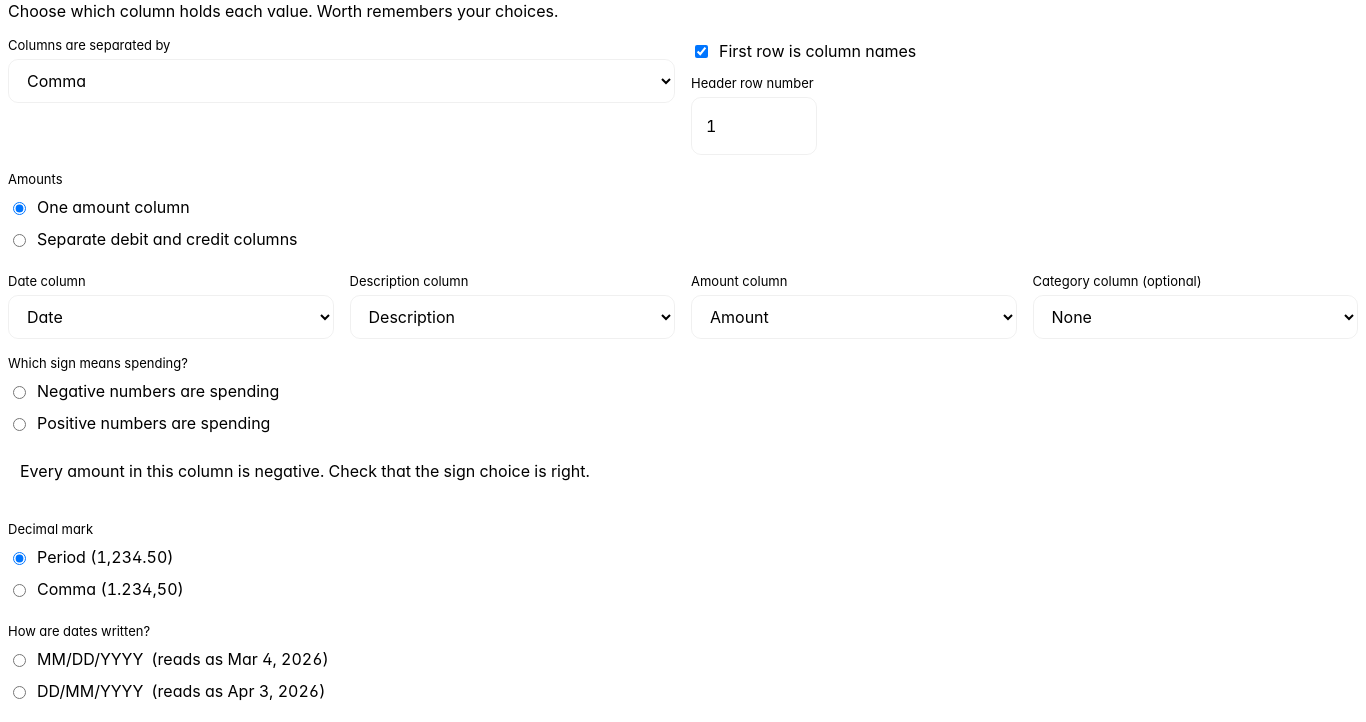
Test: ColumnsStep › shows how an ambiguous date is read under each format
Click the radio button labelled "MM/DD/YYYY (reads as Mar 4, 2026)" at (20, 660), box left=13, top=654, right=26, bottom=667
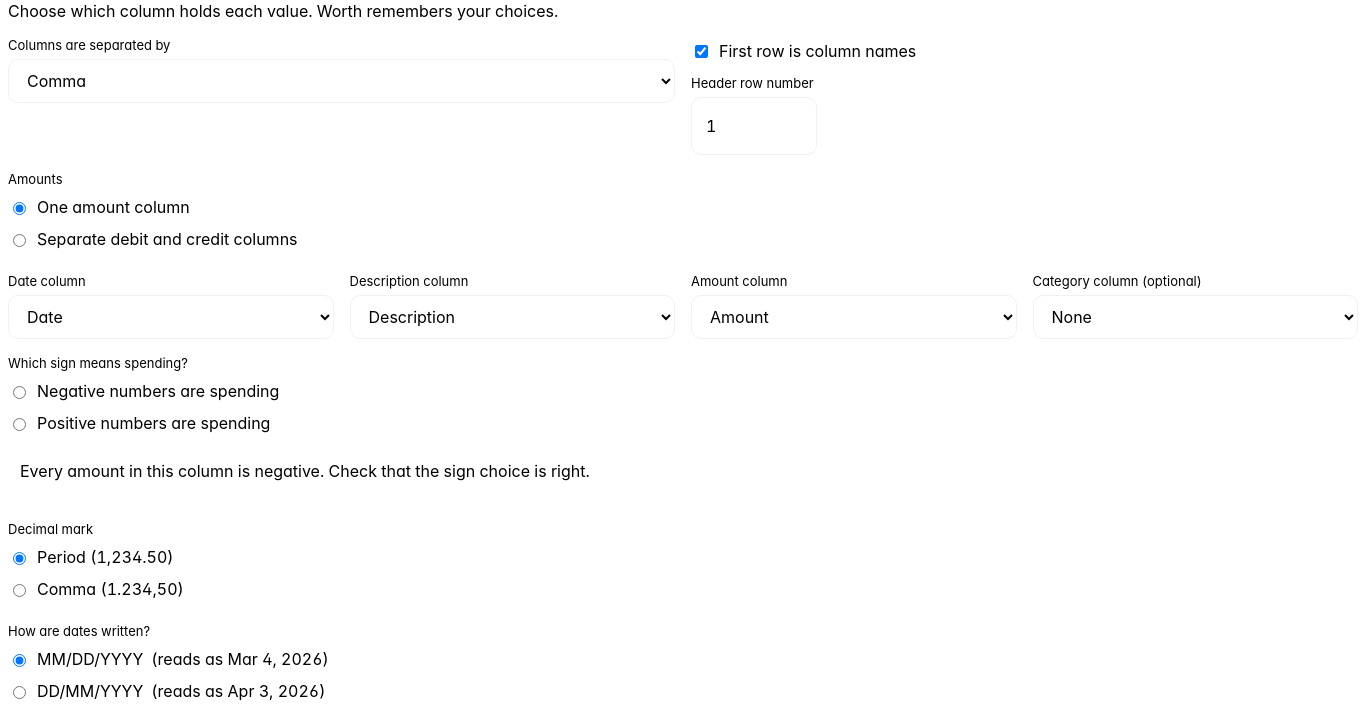
Click the radio button labelled "DD/MM/YYYY (reads as Apr 3, 2026)" at (20, 692), box left=13, top=686, right=26, bottom=699
(page scrolled)
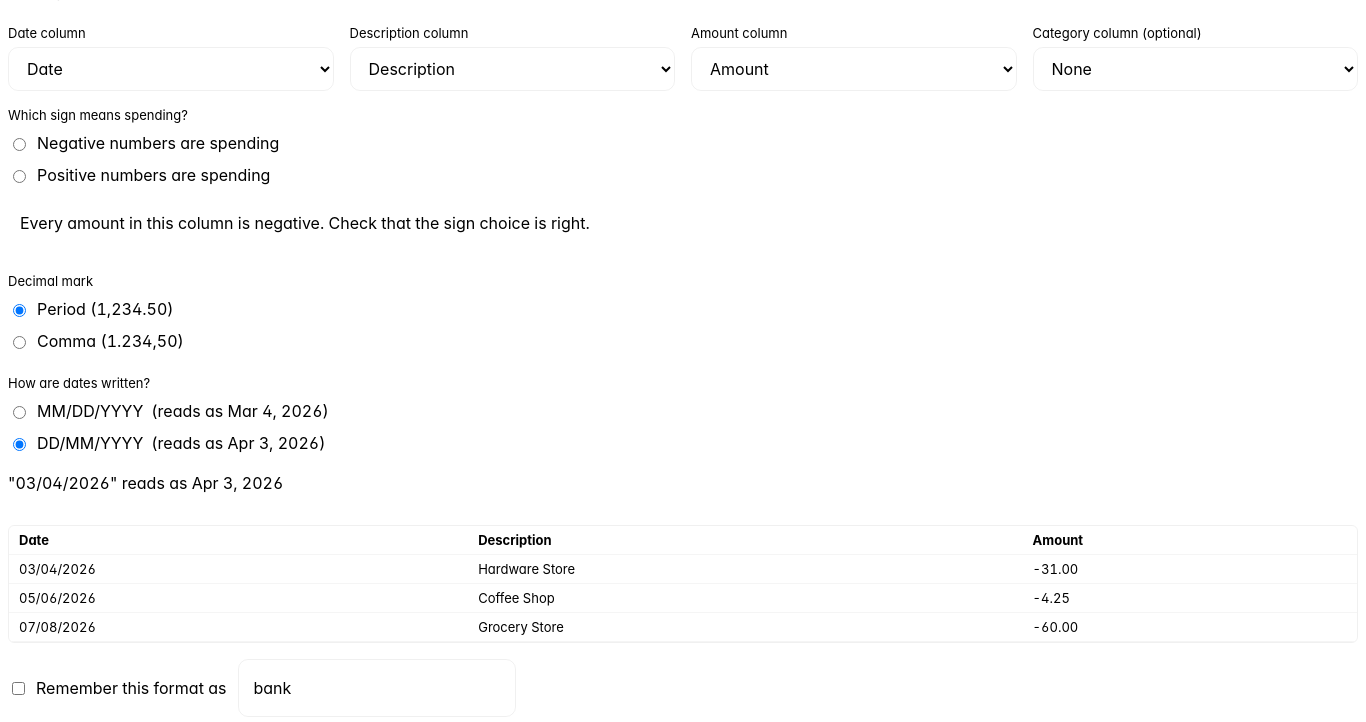
Check: the text "\"03/04/2026\" reads as Apr 3, 2026" is shown, box left=8, top=473, right=283, bottom=493
